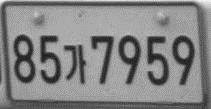5: (39, 34, 62, 84), (146, 35, 169, 85)
7: (90, 35, 115, 84)
8: (12, 33, 36, 83)
9: (171, 34, 195, 85), (118, 35, 141, 84)
가: (62, 43, 86, 85)
